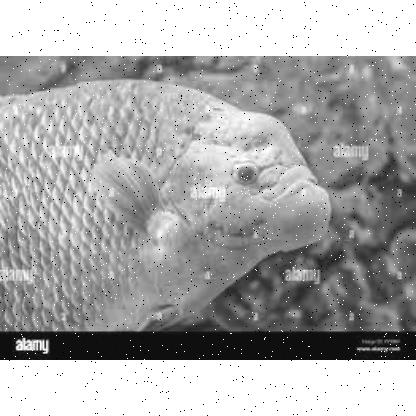gurame: (1, 78, 327, 324)
